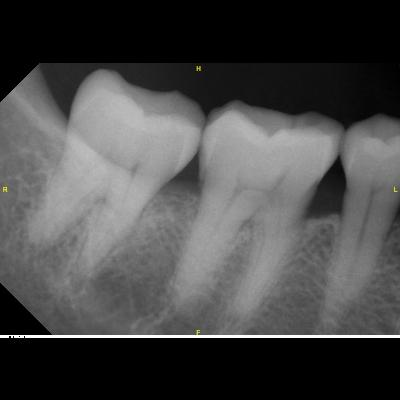tooth: (313, 110, 400, 333)
